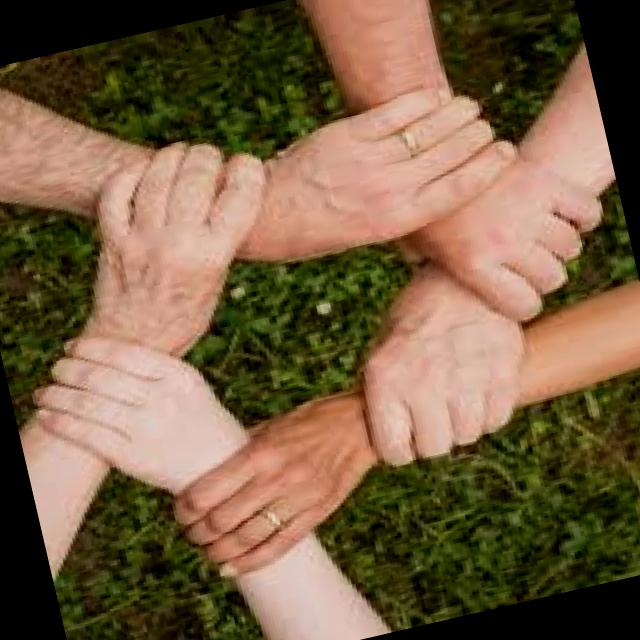Hand: (220, 66, 532, 275), (374, 125, 626, 350), (59, 118, 297, 350), (147, 388, 398, 598), (334, 247, 550, 477), (15, 304, 246, 503)
